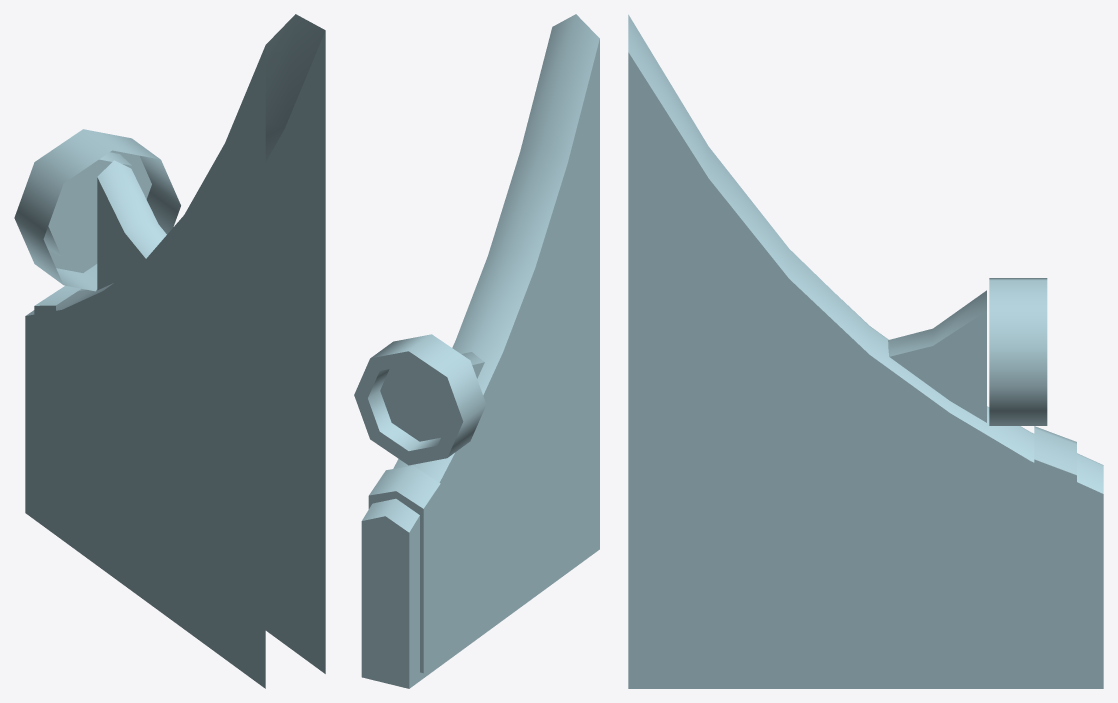
3 renders of one model, left to right at view 1: azimuth 30°, elevation 25°; view 2: azimuth 150°, elevation 25°; view 3: azimuth 270°, elevation 25°, orthographic. The views are drawn at different scales.
Visible parts, largest first — view 1: Object06; view 2: Object06; view 3: Object06.
Boxes of the visible parts, x1,y1,x2,y2 form: Object06: (14, 14, 325, 688); Object06: (354, 14, 599, 688); Object06: (628, 14, 1103, 688).
Size of the model in its own units: 10053 by 46569 by 30381.
